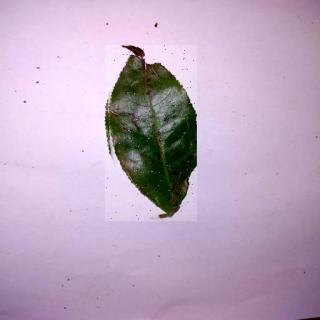Bird Eye Spot: (106, 46, 198, 222)
